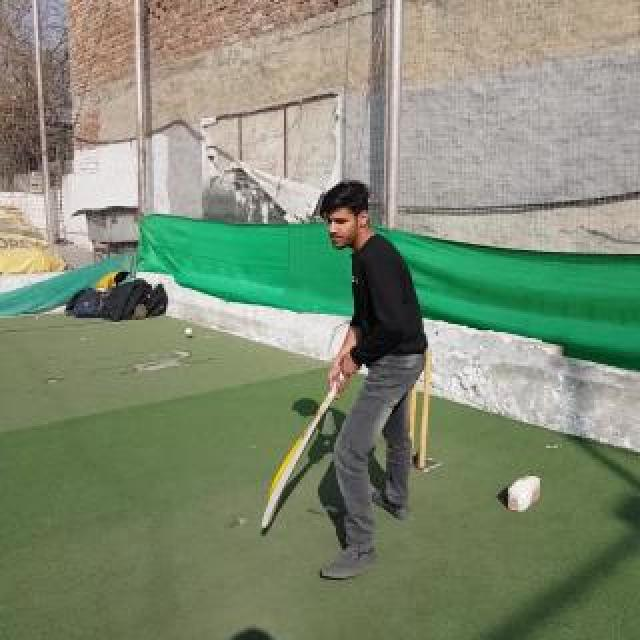ball: (186, 327, 192, 335)
bat: (262, 372, 346, 528)
